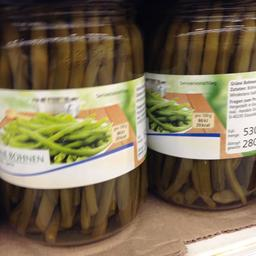beans: (0, 2, 142, 244), (146, 2, 252, 216)
